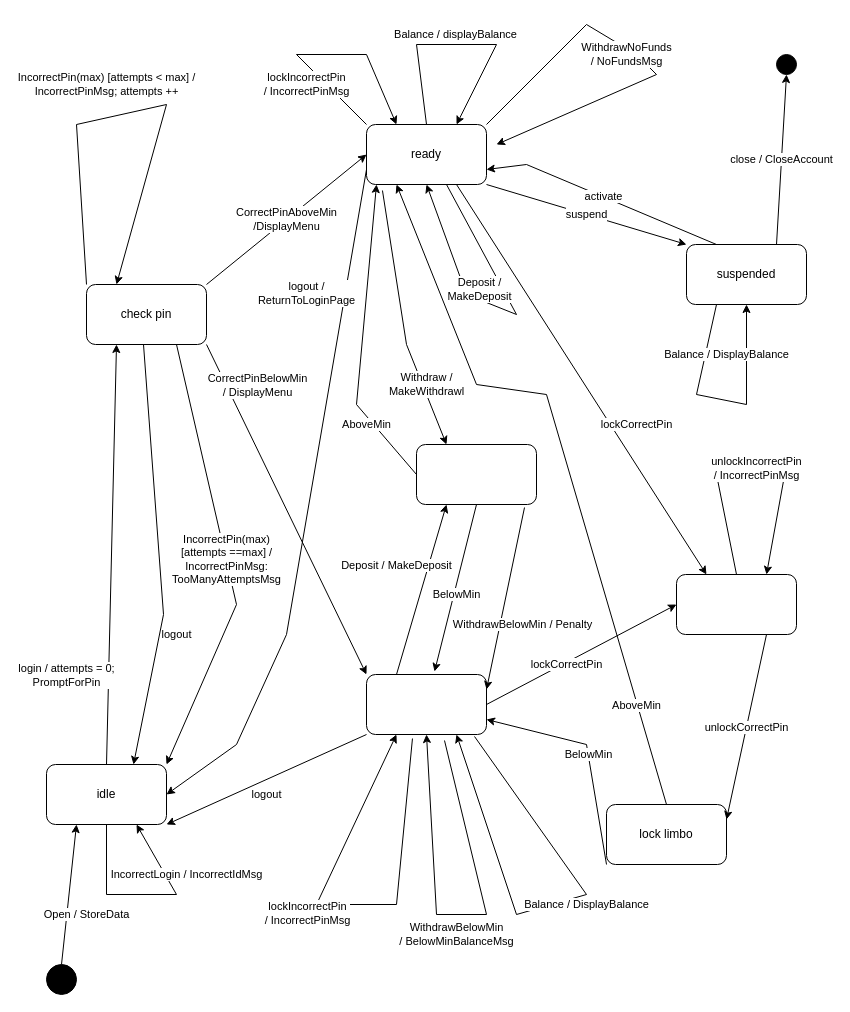
The diagram is 850 pixels wide and 1012 high, and some of its shapes have lost their labels. Here are the shapes that lost their labels. From the top down, the box of each, then its label:
(416, 444, 536, 504): deposit/withdraw limbo
(676, 574, 796, 634): locked
(366, 674, 486, 734): overdrawn
